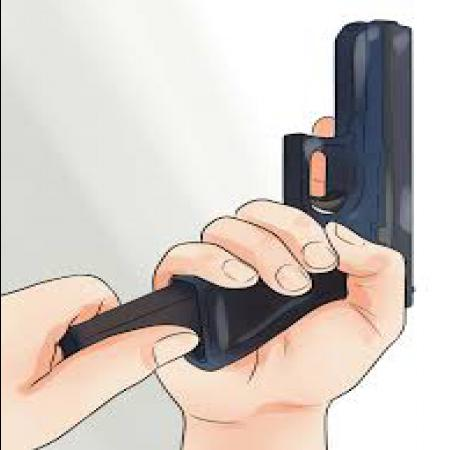Pistol: (171, 16, 420, 372)
